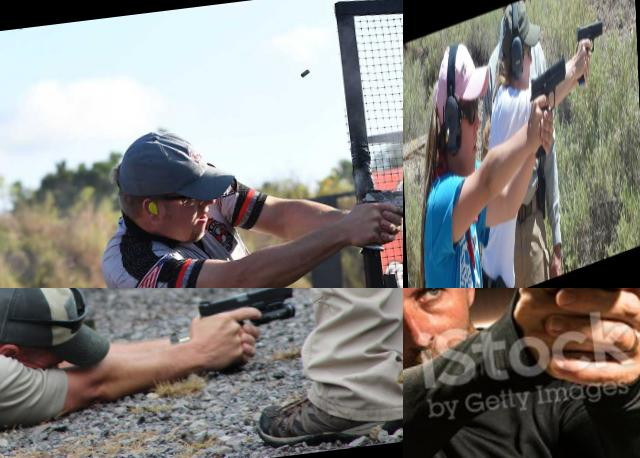handgun: (520, 288, 640, 371), (192, 288, 302, 342), (528, 48, 570, 165), (348, 177, 403, 256), (574, 12, 606, 88)
